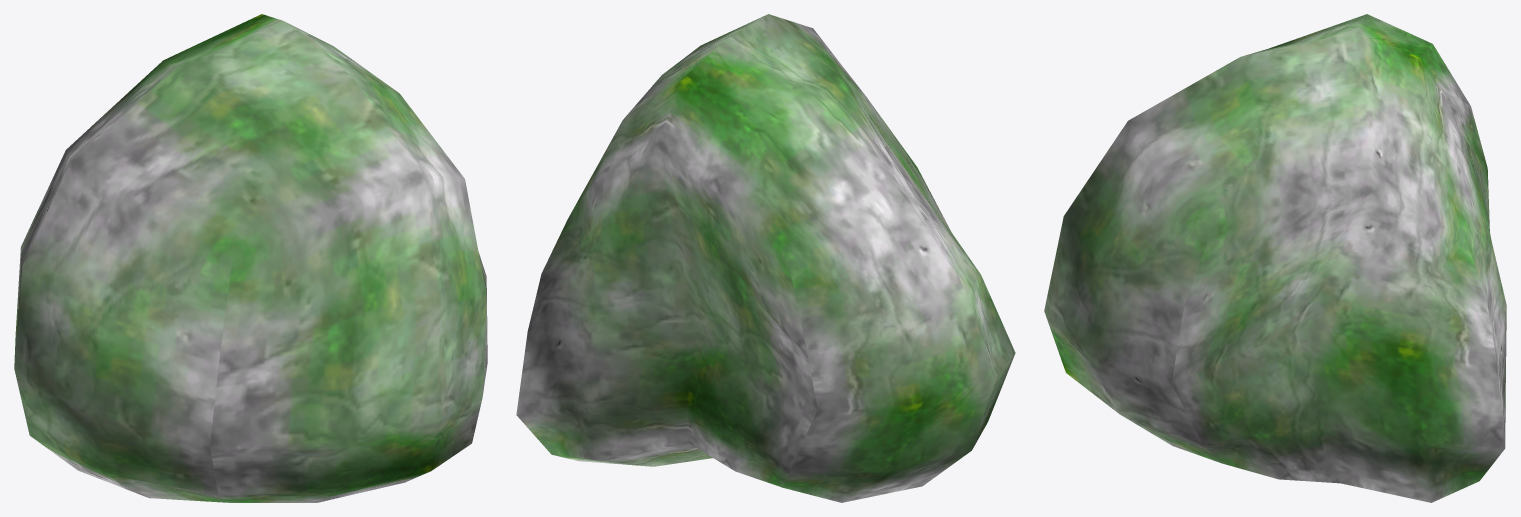
Rendered from INST_HTOWN_ROCKF.fbx.
3 renders of one model, left to right at view 1: azimuth 30°, elevation 25°; view 2: azimuth 150°, elevation 25°; view 3: azimuth 270°, elevation 25°, orthographic.
Visible parts, largest first — view 1: INST_HTOWN_ROCKF; view 2: INST_HTOWN_ROCKF; view 3: INST_HTOWN_ROCKF.
Boxes of the visible parts, x1,y1,x2,y2 form: INST_HTOWN_ROCKF: [14, 14, 487, 502]; INST_HTOWN_ROCKF: [516, 14, 1015, 502]; INST_HTOWN_ROCKF: [1044, 14, 1506, 502].
Size of the model in its own units: 20621 by 20621 by 20621.
1 material, 1 textured.
